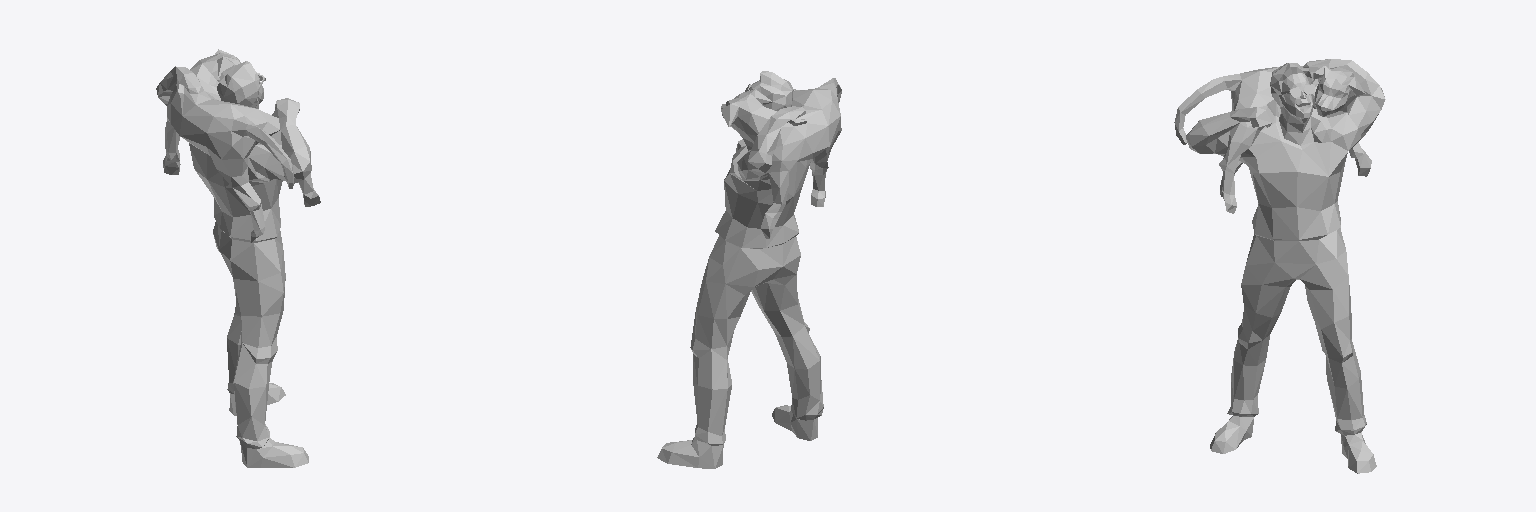
Rendered from Dave_Oshry_Statue.obj.
3 views of the same model, side by side, from view 1: azimuth 30°, elevation 25°; view 2: azimuth 150°, elevation 25°; view 3: azimuth 270°, elevation 25° (orthographic).
Parts seen in each view (by area): view 1: DaveStatue; view 2: DaveStatue; view 3: DaveStatue.
Part boxes in pixels (x1,y1,x2,y2): DaveStatue: (156, 49, 320, 467); DaveStatue: (657, 71, 841, 468); DaveStatue: (1174, 59, 1385, 473).
Size of the model in its own units: 84.88 by 222 by 112.